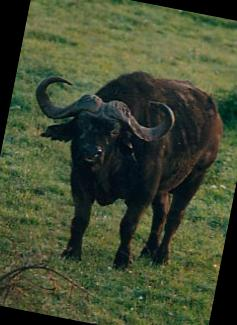Buffalo: (0, 11, 237, 321)
